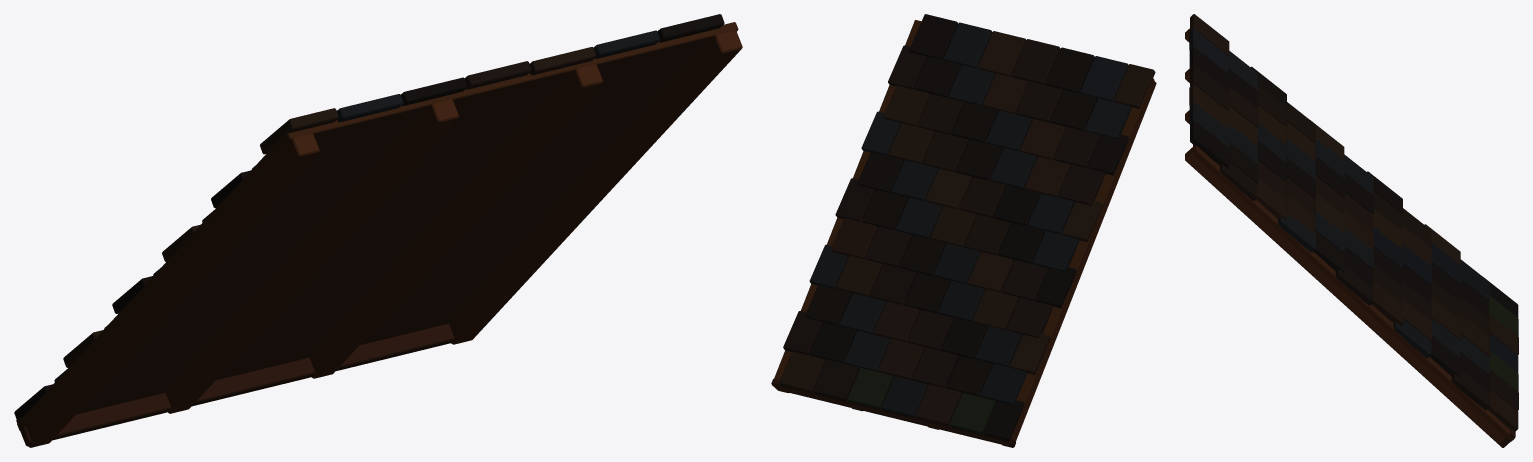
File: mod_roof_rafter_45deg_2x2m.glb
3 renders of one model, left to right at view 1: azimuth 30°, elevation 25°; view 2: azimuth 150°, elevation 25°; view 3: azimuth 270°, elevation 25°, orthographic. The views are drawn at different scales.
Visible parts, largest first — view 1: Mod_Roof_Rafter_45deg_2x2m; view 2: Mod_Roof_Rafter_45deg_2x2m; view 3: Mod_Roof_Rafter_45deg_2x2m.
Part boxes in pixels (left/top/right/bottom): Mod_Roof_Rafter_45deg_2x2m: left=14, top=14, right=742, bottom=447; Mod_Roof_Rafter_45deg_2x2m: left=771, top=14, right=1156, bottom=447; Mod_Roof_Rafter_45deg_2x2m: left=1185, top=14, right=1518, bottom=447.
Size of the model in its own units: 2 by 2.21 by 2.18.
